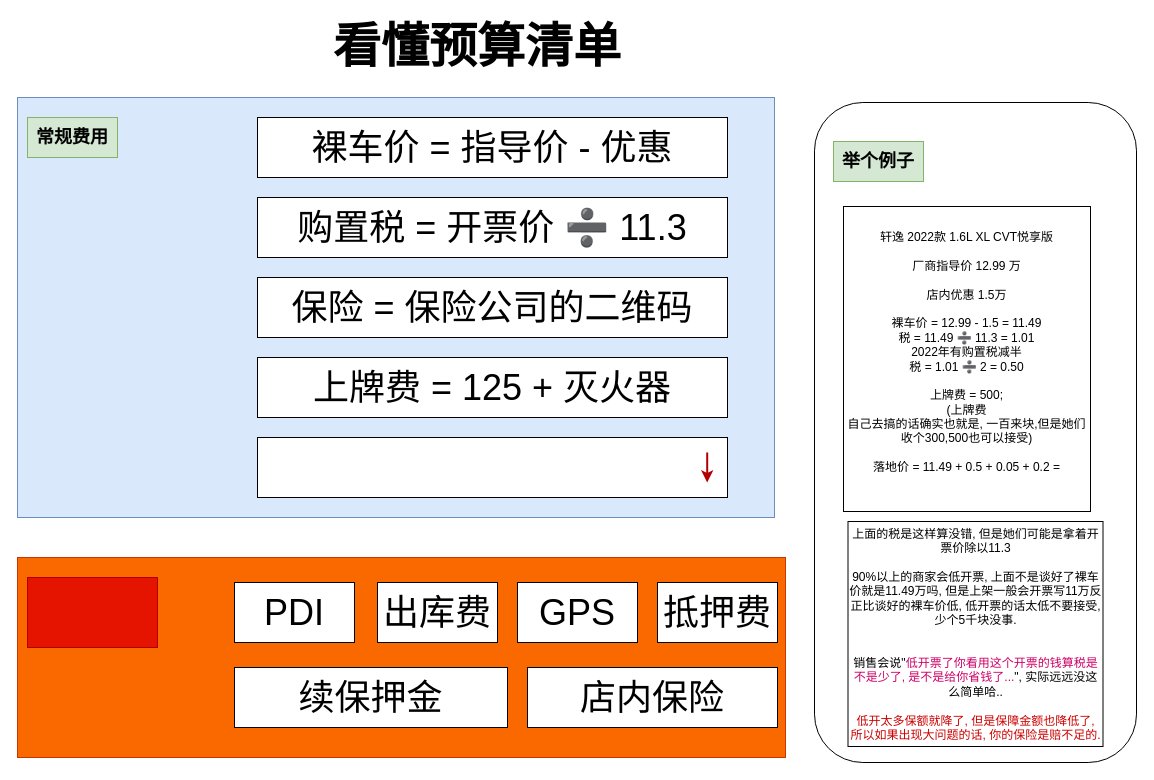
The diagram is 1154 pixels wide and 780 high, and some of its shapes have lost their labels. The shapes that lost their labels are listed below. From the top down, each one's centre as x and y in pixels, then its label:
the point at 492,467: 贷款 金融服务费 = 2000
the point at 92,612: 坑钱费用
